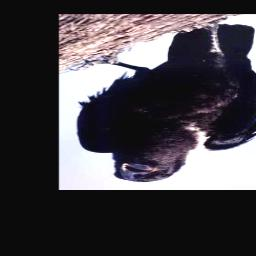Crow: (73, 19, 256, 184)
